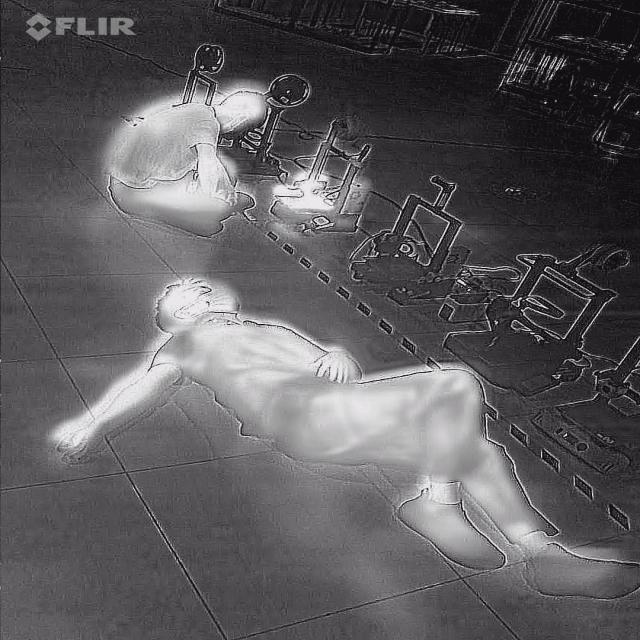Victim: (42, 272, 638, 604), (102, 67, 278, 242)
